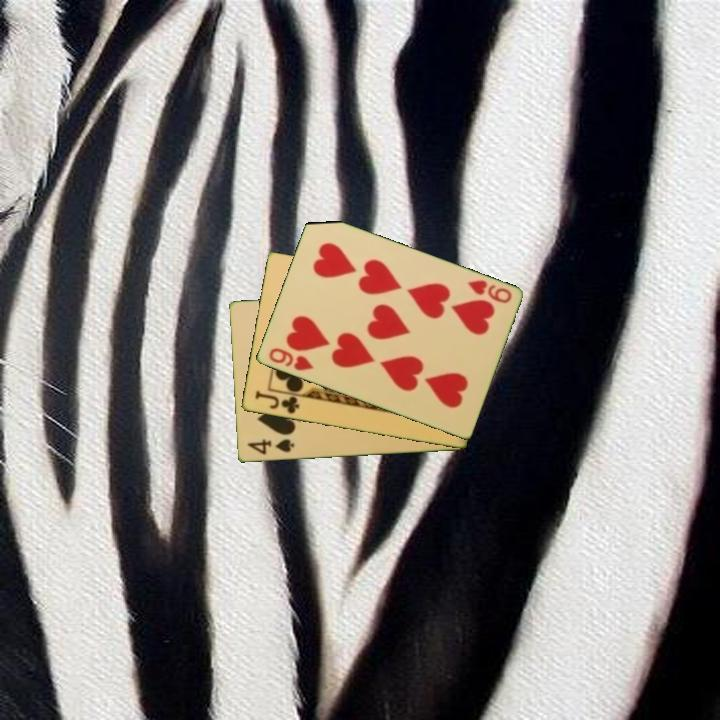4s: (244, 436, 297, 458)
9h: (265, 344, 316, 374), (464, 276, 514, 306)
Jc: (251, 388, 302, 417)
